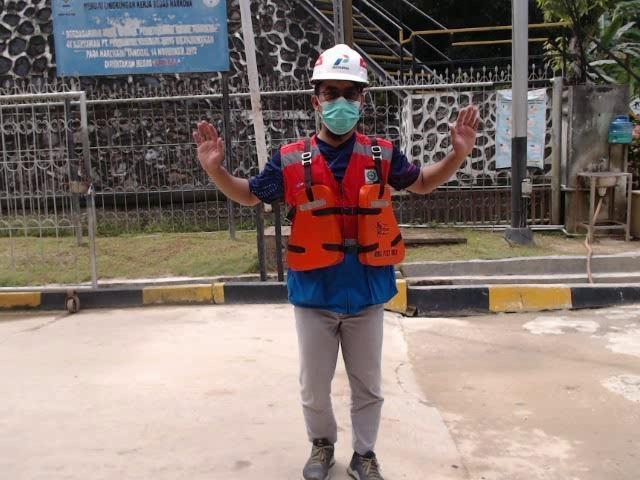vest: (285, 183, 409, 270)
